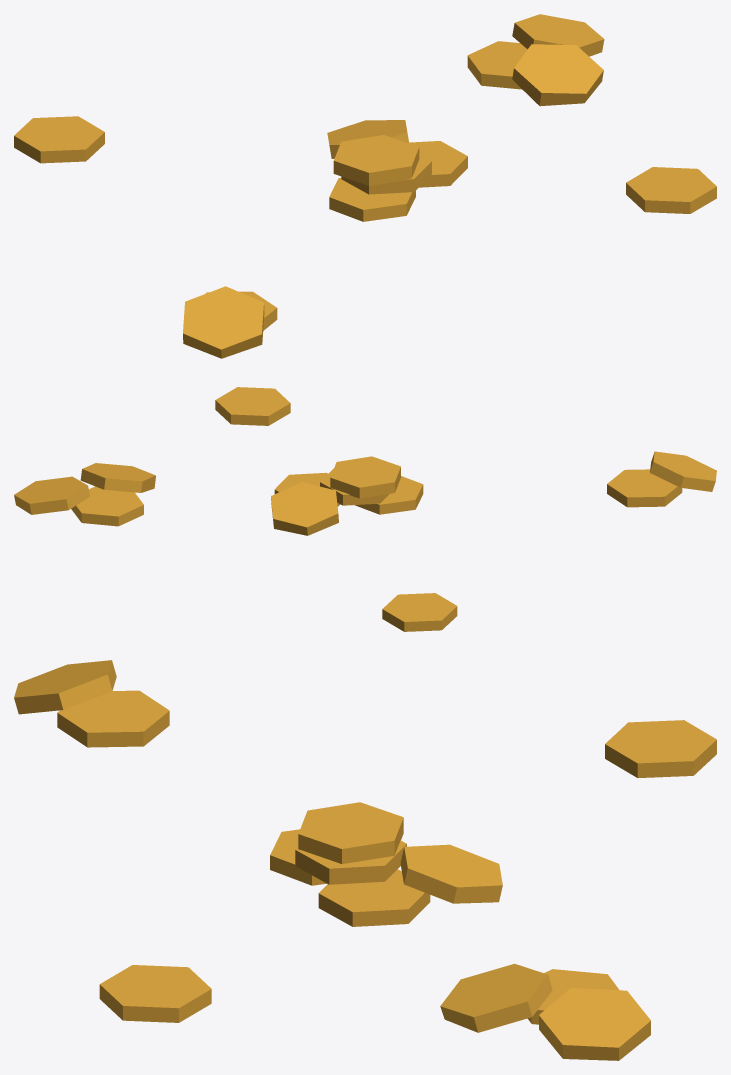
The model's file is Coin_3.fbx.
The picture shows the model from 3 angles, top to bottom: view 1: azimuth 30°, elevation 25°; view 2: azimuth 150°, elevation 25°; view 3: azimuth 270°, elevation 25°; orthographic projection. The views are drawn at different scales.
Visible parts, largest first — view 1: Coin_3; view 2: Coin_3; view 3: Coin_3.
Part boxes in pixels (<box>): Coin_3: <box>14,14,716,358</box>; Coin_3: <box>14,387,716,631</box>; Coin_3: <box>14,660,716,1060</box>.
Bounding box in the file's own units: 49.21 × 2.86 × 38.84.
